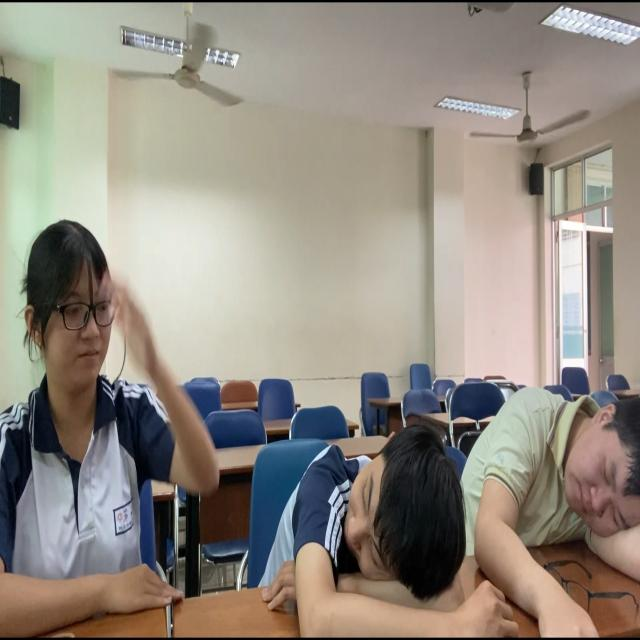sleep: (259, 416, 474, 640), (467, 378, 640, 620)
